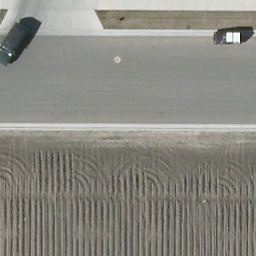car: (0, 23, 33, 70), (211, 32, 243, 48)
